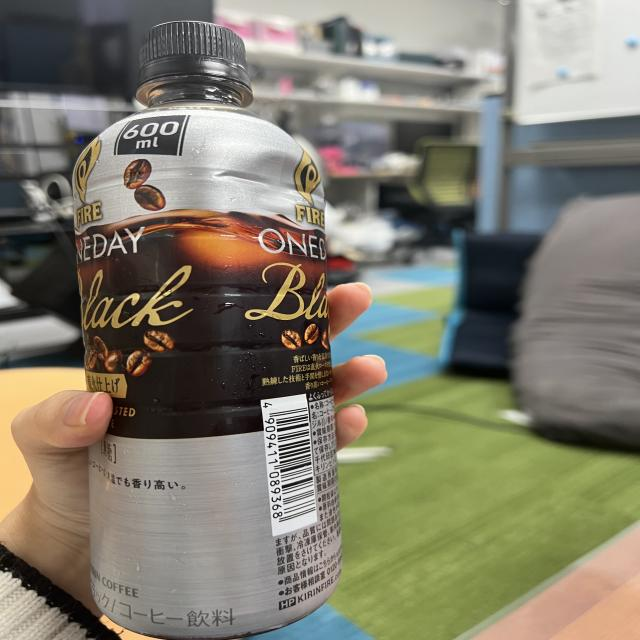coffee-black: (64, 24, 346, 640)
